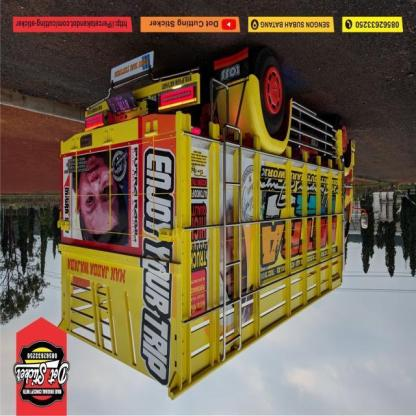truck: (57, 50, 370, 401)
